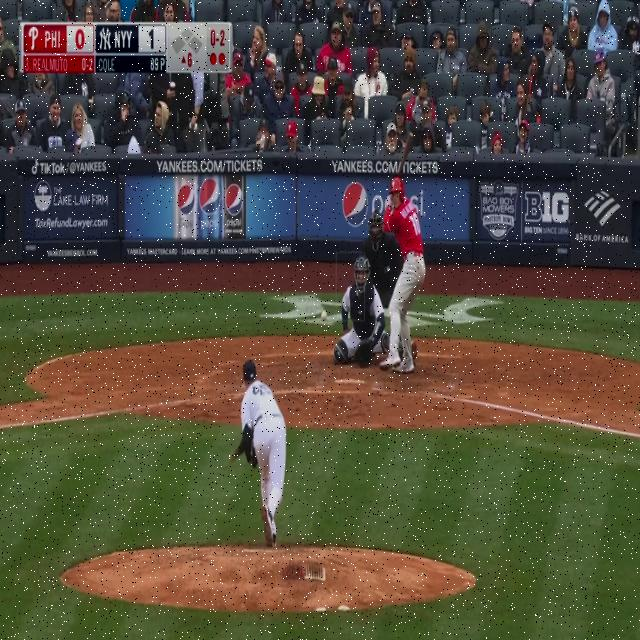baseball: (321, 310, 327, 320)
